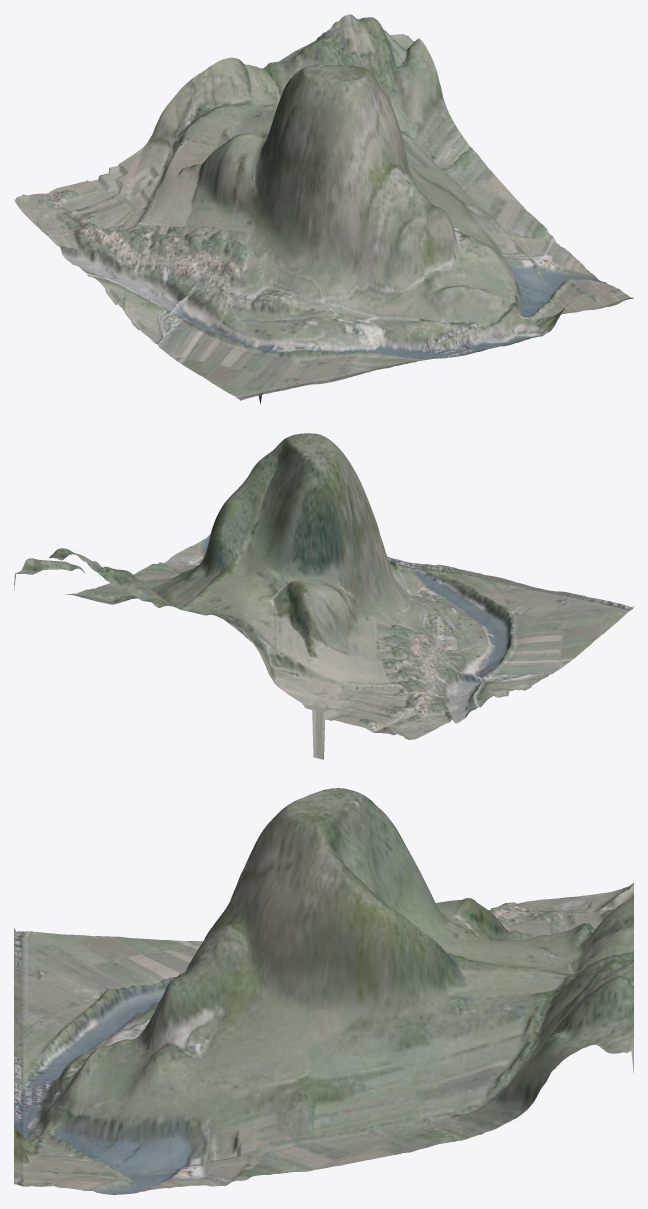
File: dsm_84f7de2008_mesh.glb
3 renders of one model, top to bottom at view 1: azimuth 30°, elevation 25°; view 2: azimuth 150°, elevation 25°; view 3: azimuth 270°, elevation 25°, orthographic. The views are drawn at different scales.
Visible parts, largest first — view 1: geometry_0; view 2: geometry_0; view 3: geometry_0.
Part boxes in pixels (x1,y1,x2,y2): geometry_0: [14, 14, 633, 404]; geometry_0: [14, 433, 633, 759]; geometry_0: [14, 788, 633, 1194].
Size of the model in its own units: 2 by 1 by 2.
